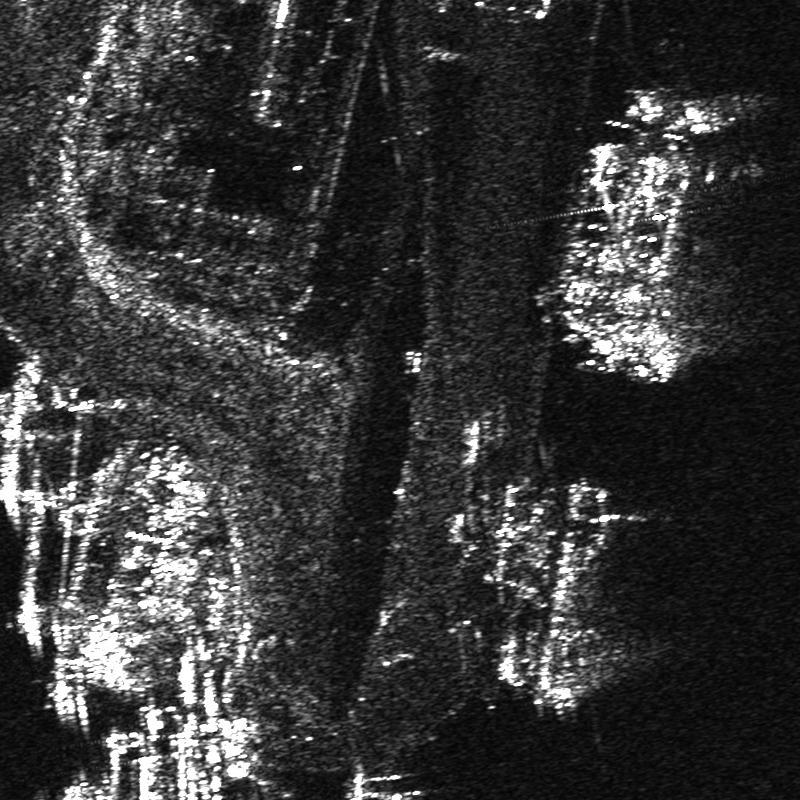ship: (585, 156, 689, 359), (534, 484, 609, 709), (19, 388, 82, 644), (555, 145, 639, 330), (497, 500, 559, 686), (180, 638, 222, 799), (145, 706, 185, 799), (2, 362, 40, 442), (107, 731, 148, 799), (221, 717, 251, 779), (1, 453, 19, 515)
